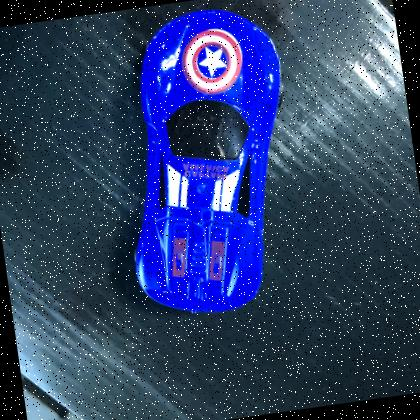Car: (90, 0, 322, 330)
